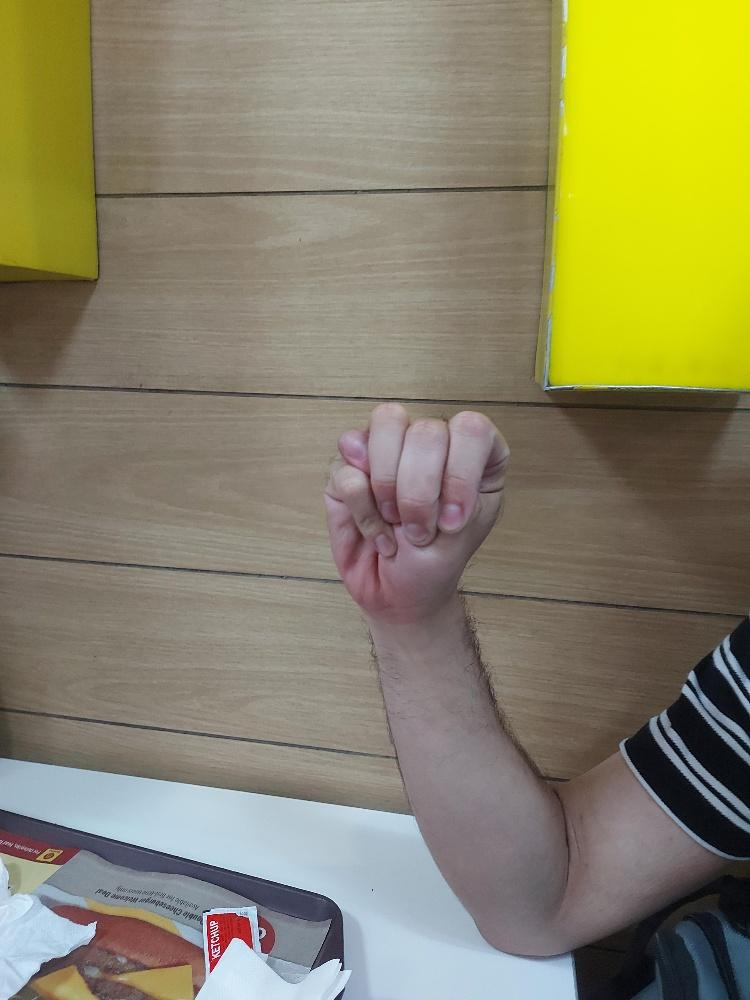m: (321, 394, 513, 619)
